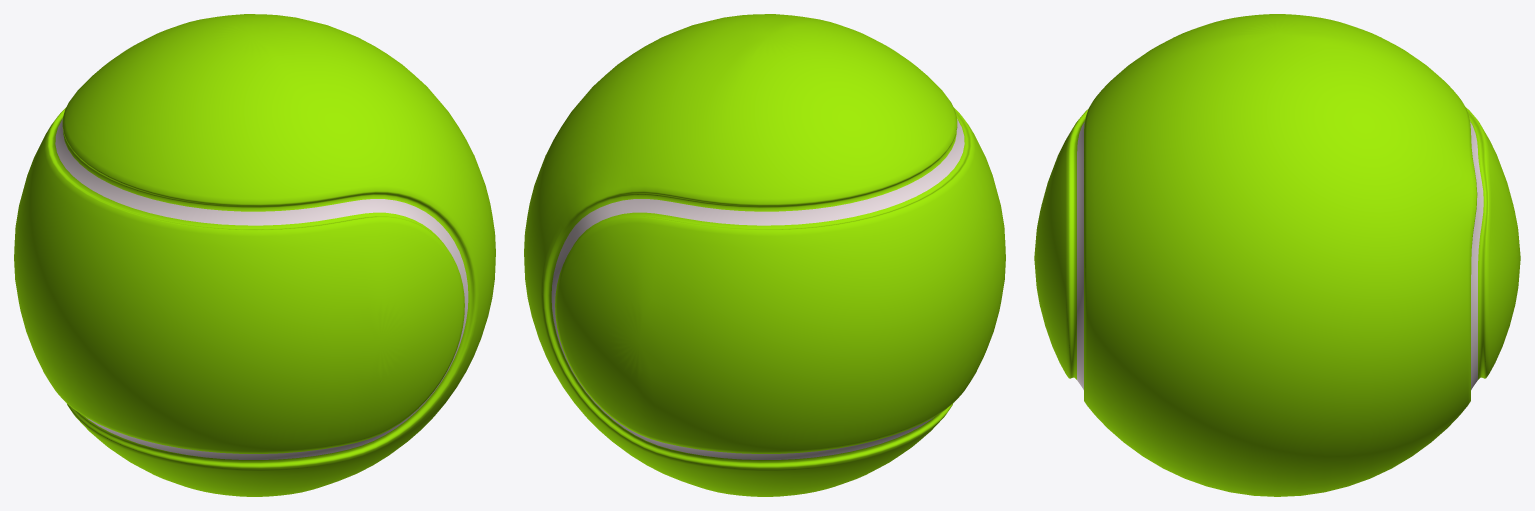
Rendered from Bouncing Ball.fbx.
3 views of the same model, side by side, from view 1: azimuth 30°, elevation 25°; view 2: azimuth 150°, elevation 25°; view 3: azimuth 270°, elevation 25° (orthographic).
Visible parts, largest first — view 1: Sphere; view 2: Sphere; view 3: Sphere.
Part boxes in pixels (left/top/right/bottom): Sphere: left=14, top=14, right=495, bottom=496; Sphere: left=524, top=14, right=1005, bottom=496; Sphere: left=1034, top=14, right=1520, bottom=496.
Size of the model in its own units: 197 by 199 by 199.
